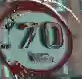Speed limit: (2, 4, 75, 72)
